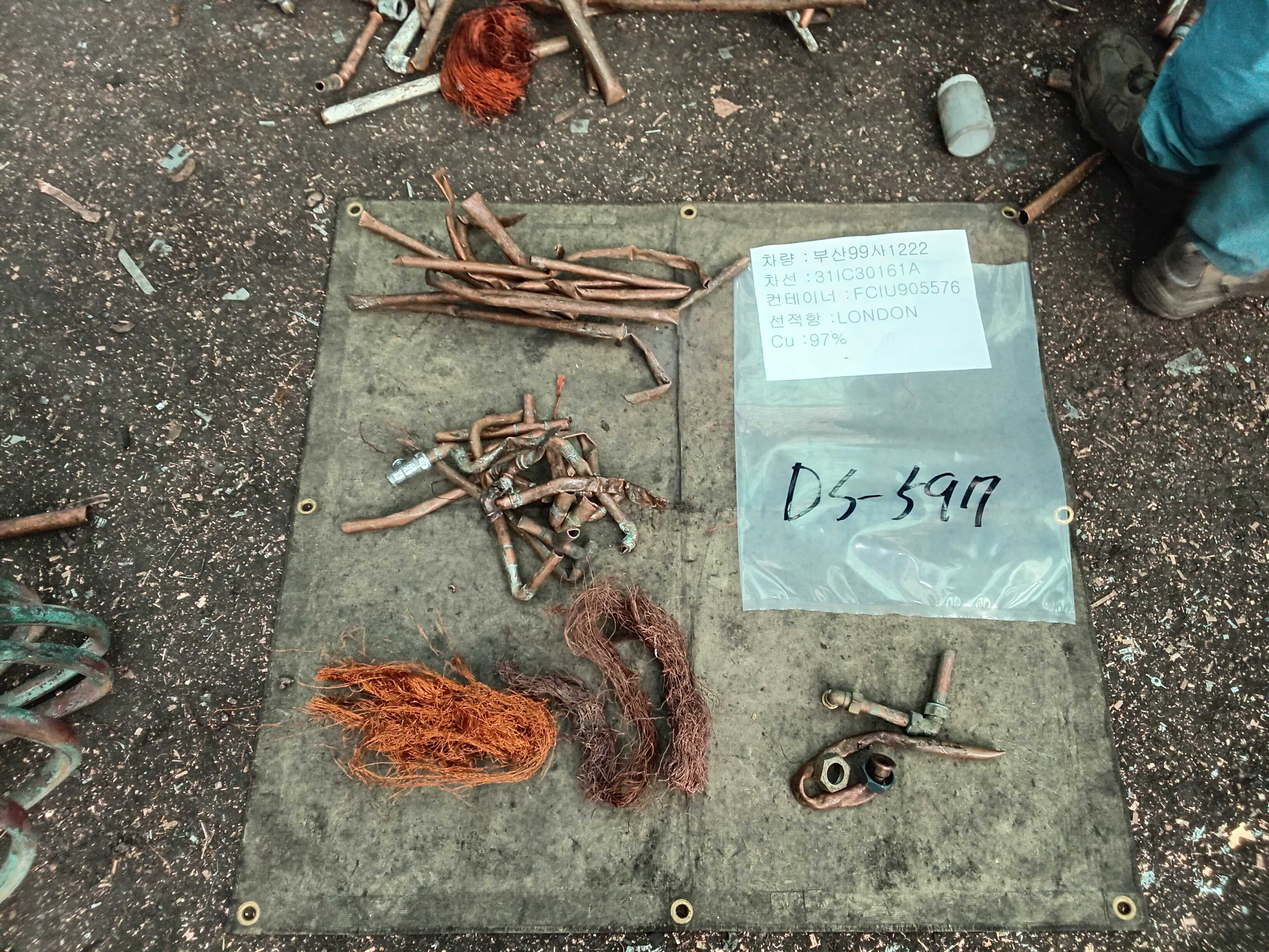Brass_Attach_70: (791, 731, 1007, 810), (822, 648, 953, 734)
Copper_Elbows_92: (313, 8, 384, 92)
Thin_Enamled_Wire_89: (513, 576, 710, 808), (315, 667, 559, 787), (442, 0, 535, 120)
